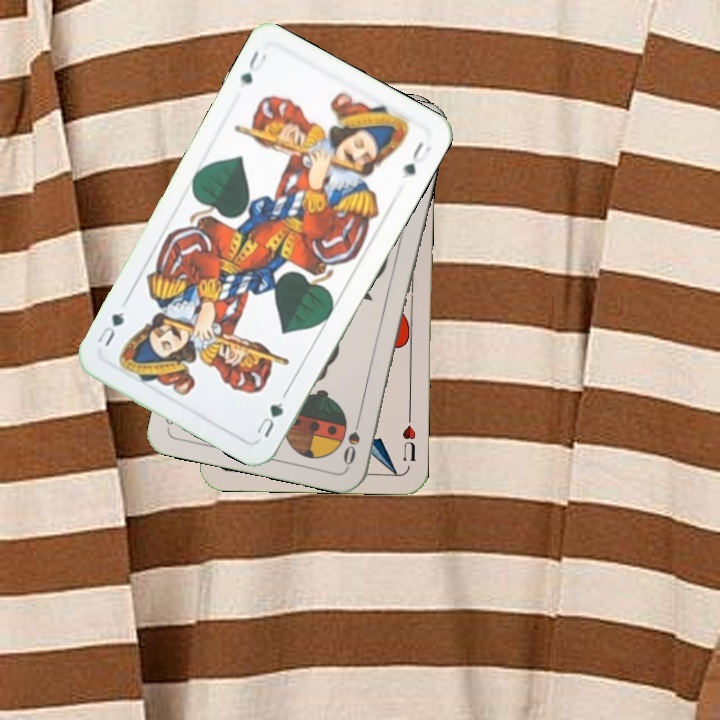GU: (252, 398, 286, 440), (236, 46, 269, 87)
HU: (398, 409, 419, 464)
SO: (339, 410, 364, 468)
